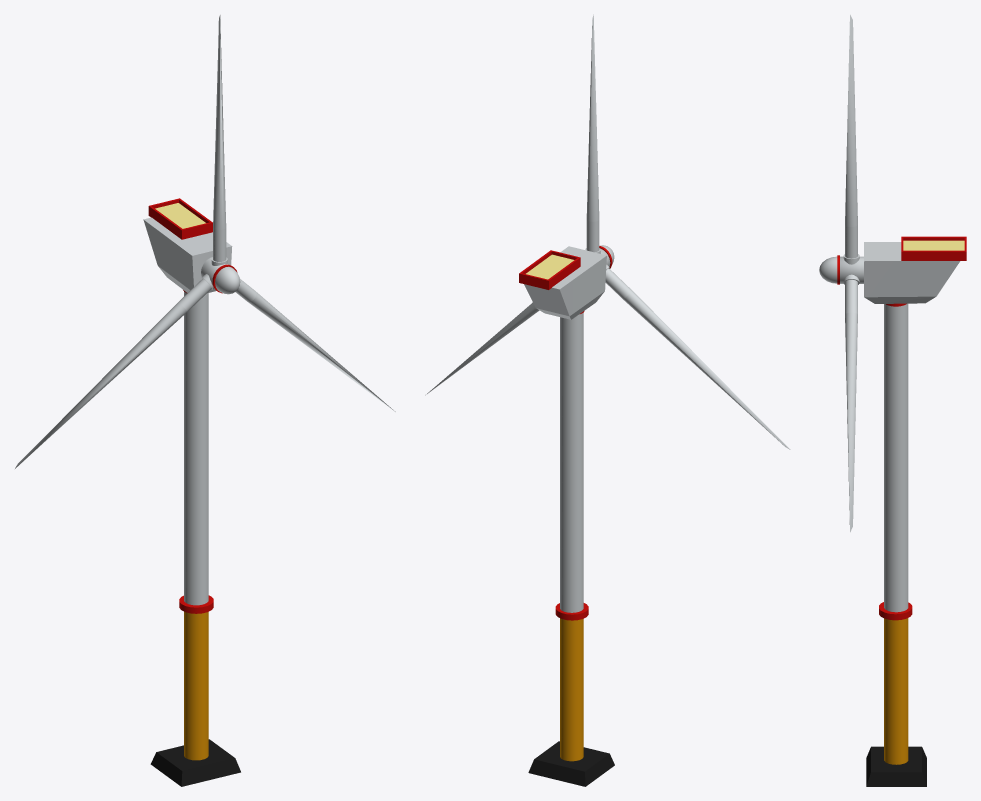
Rendered from Wind Turbine 2.FBX.
3 views of the same model, side by side, from view 1: azimuth 30°, elevation 25°; view 2: azimuth 150°, elevation 25°; view 3: azimuth 270°, elevation 25° (orthographic). The views are drawn at different scales.
Parts seen in each view (by area): view 1: Box002; view 2: Box002; view 3: Box002.
Part boxes in pixels (left/top/right/bottom): Box002: left=15, top=15, right=395, bottom=786; Box002: left=425, top=15, right=790, bottom=786; Box002: left=819, top=14, right=966, bottom=786.
Size of the model in its own units: 39.8 by 76.8 by 13.54.
